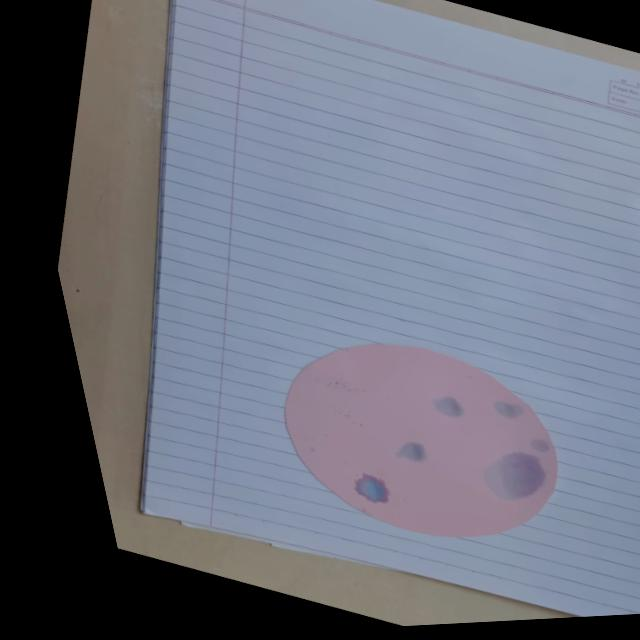BlueColor: (483, 452, 545, 500), (354, 473, 388, 502), (433, 396, 463, 417), (395, 442, 424, 462), (495, 400, 522, 418), (530, 439, 550, 453)
